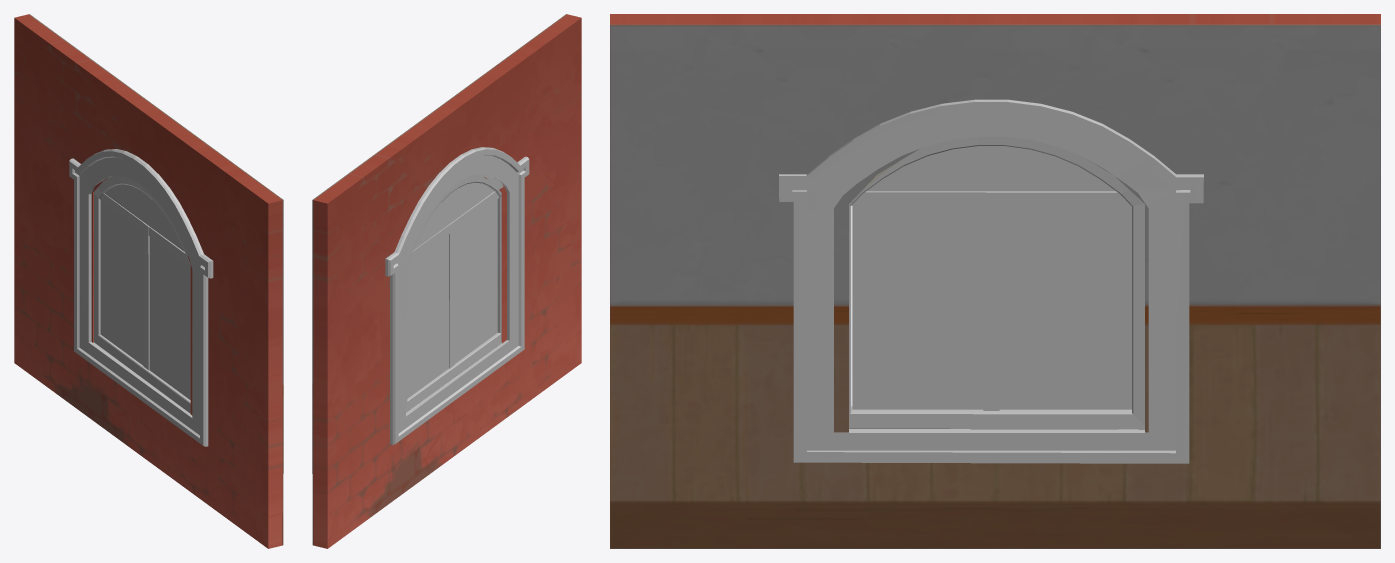
Rendered from sm_building_wall04_01.fbx.
3 renders of one model, left to right at view 1: azimuth 30°, elevation 25°; view 2: azimuth 150°, elevation 25°; view 3: azimuth 270°, elevation 25°, orthographic. The views are drawn at different scales.
Visible parts, largest first — view 1: sm_building_wall01_05, sm_building_wall01_02.001, sm_building_wall01_04, sm_building_wall01_03; view 2: sm_building_wall01_05, sm_building_wall01_02.001, sm_building_wall01_04, sm_building_wall01_03; view 3: sm_building_wall01_03, sm_building_wall01_02.001, sm_building_wall01_04, sm_building_wall01_05.
Part boxes in pixels (x1,y1,x2,y2): sm_building_wall01_05: (14, 14, 282, 548); sm_building_wall01_02.001: (69, 149, 213, 446); sm_building_wall01_04: (100, 184, 190, 399); sm_building_wall01_03: (29, 14, 283, 545); sm_building_wall01_05: (313, 14, 581, 548); sm_building_wall01_02.001: (385, 147, 529, 444); sm_building_wall01_04: (407, 182, 497, 398); sm_building_wall01_03: (312, 14, 566, 544); sm_building_wall01_03: (610, 24, 1380, 548); sm_building_wall01_02.001: (779, 99, 1203, 463); sm_building_wall01_04: (852, 146, 1131, 409); sm_building_wall01_05: (610, 14, 1380, 198).
Bounding box in the file's own units: 27.28 × 384 × 512.
Materials: 4 (2 with a texture image).
